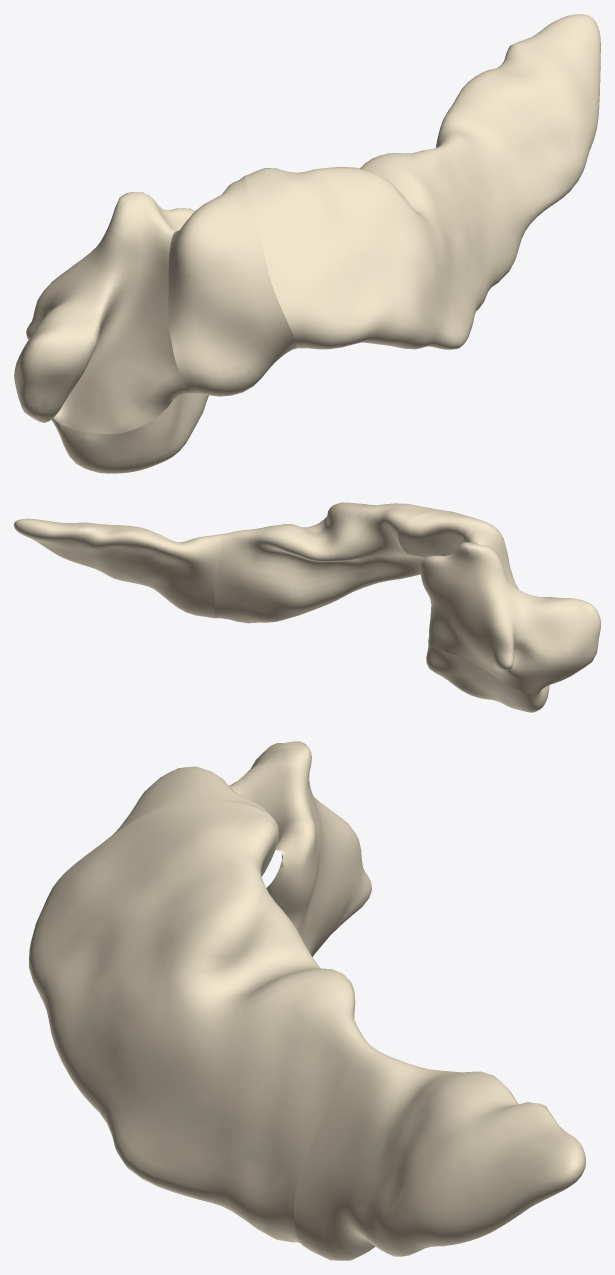
Rendered from pancreas.glb.
3 views of the same model, one above another, from view 1: azimuth 30°, elevation 25°; view 2: azimuth 150°, elevation 25°; view 3: azimuth 270°, elevation 25° (orthographic). The views are drawn at different scales.
Parts seen in each view (by area): view 1: VH_F_tail_of_pancreas; view 2: VH_F_tail_of_pancreas; view 3: VH_F_tail_of_pancreas.
Boxes of the visible parts, bbox=[...] form: VH_F_tail_of_pancreas: bbox=[14, 14, 600, 473]; VH_F_tail_of_pancreas: bbox=[14, 502, 600, 712]; VH_F_tail_of_pancreas: bbox=[29, 741, 585, 1260].
Bounding box in the file's own units: 0.1721 × 0.0579 × 0.0844.
